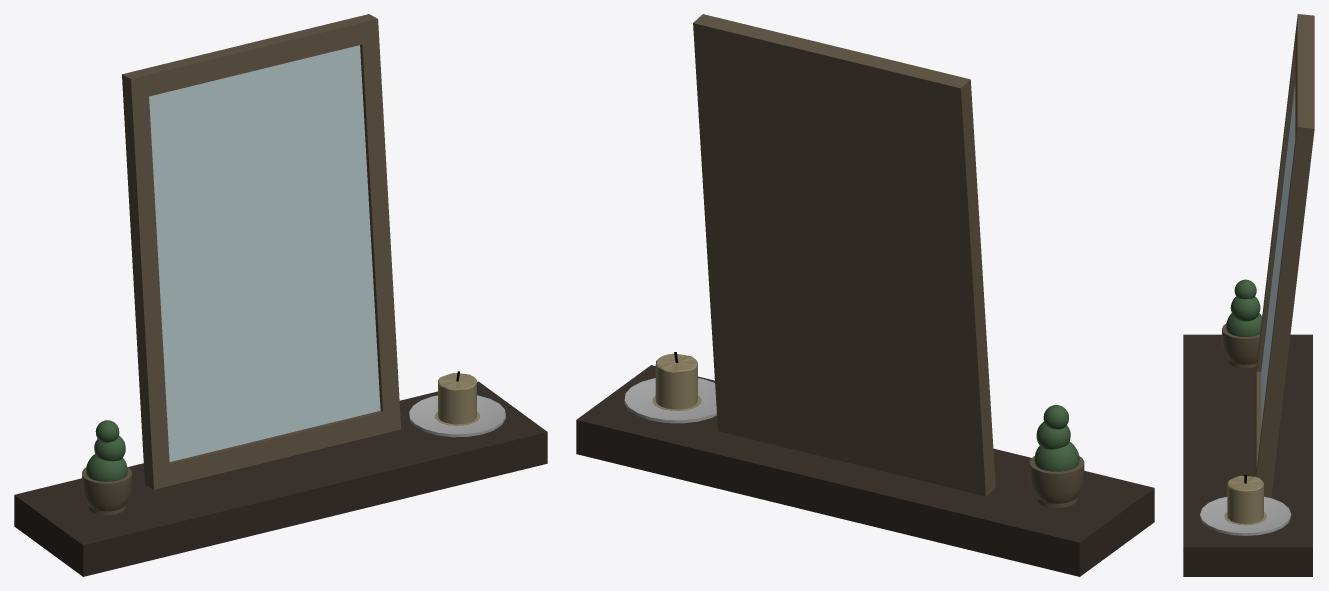
File: OrganizedCounter.fbx
The picture shows the model from 3 angles, left to right: view 1: azimuth 30°, elevation 25°; view 2: azimuth 150°, elevation 25°; view 3: azimuth 270°, elevation 25°; orthographic projection. The views are drawn at different scales.
Visible parts, largest first — view 1: OrganizedCounter; view 2: OrganizedCounter; view 3: OrganizedCounter.
Part boxes in pixels (left/top/right/bottom): OrganizedCounter: left=14, top=14, right=547, bottom=576; OrganizedCounter: left=576, top=14, right=1154, bottom=576; OrganizedCounter: left=1183, top=14, right=1314, bottom=576.
Bounding box in the file's own units: 0.679 × 0.5959 × 0.1774.
